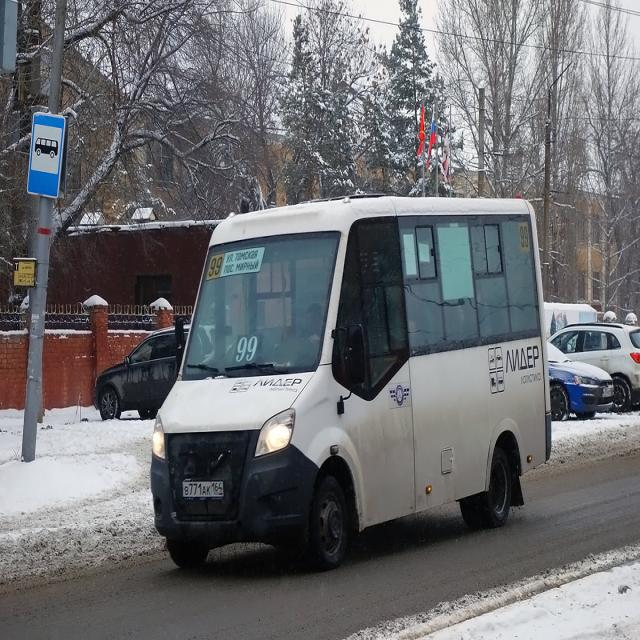number-of-bus: (236, 337, 260, 364), (208, 255, 224, 279)
